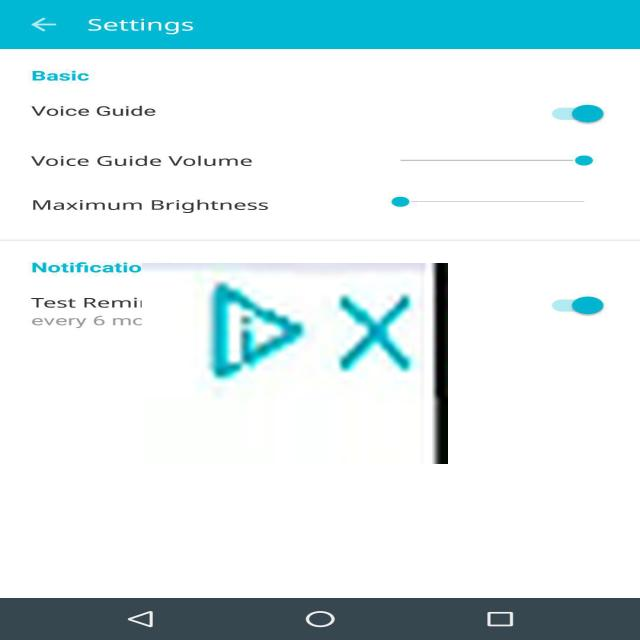sneaking: (142, 263, 448, 464)
